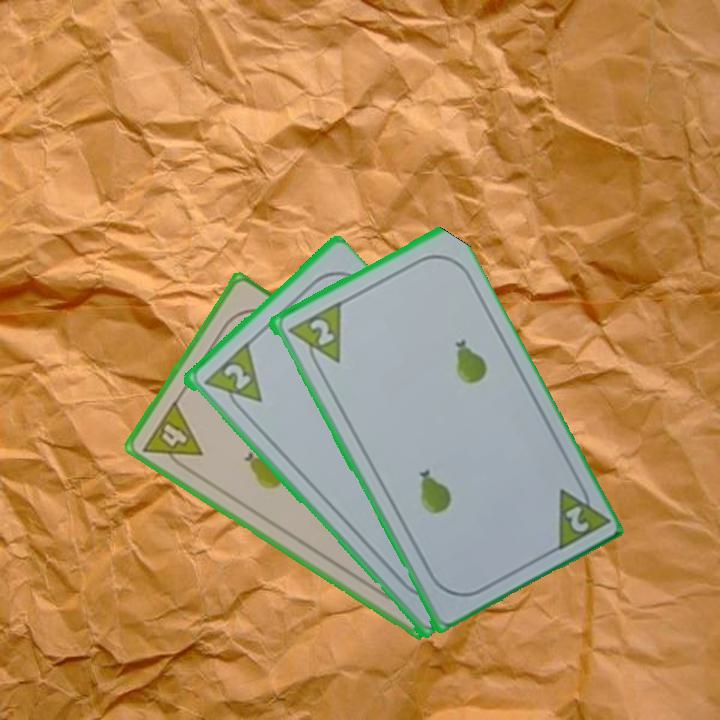2p: (550, 474, 610, 555), (219, 359, 253, 393), (305, 314, 337, 349)
4p: (138, 397, 205, 476)
